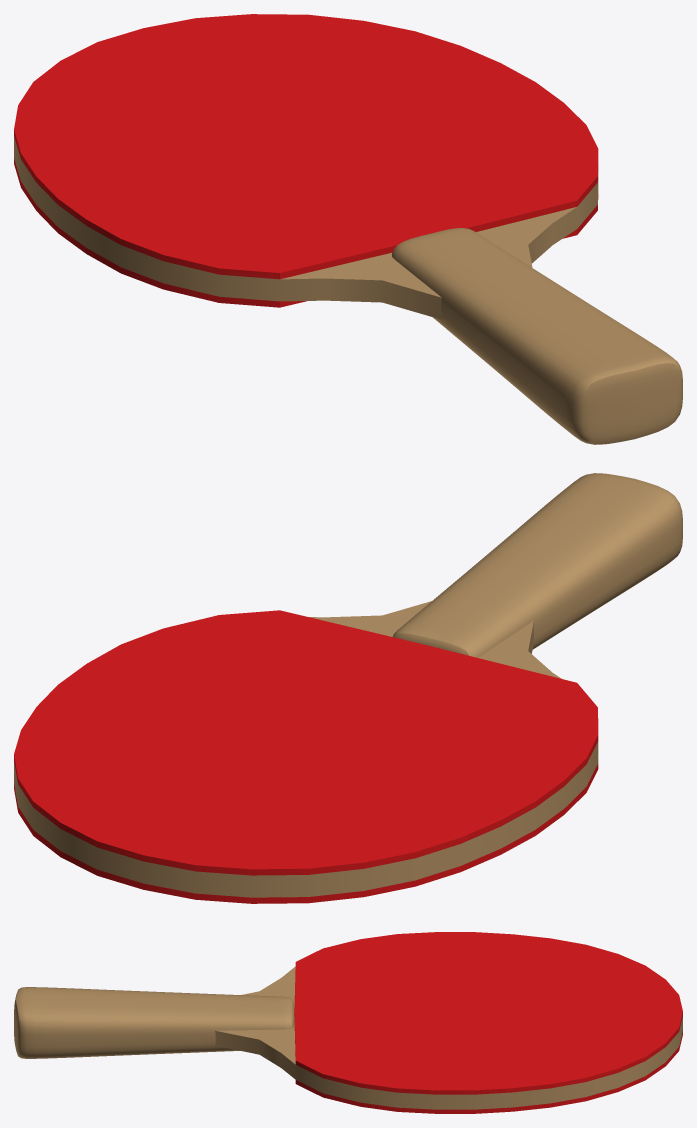
File: paddle.fbx
3 renders of one model, top to bottom at view 1: azimuth 30°, elevation 25°; view 2: azimuth 150°, elevation 25°; view 3: azimuth 270°, elevation 25°, orthographic. The views are drawn at different scales.
Visible parts, largest first — view 1: paddle.001; view 2: paddle.001; view 3: paddle.001.
Boxes of the visible parts, x1,y1,x2,y2 form: paddle.001: (14, 14, 682, 444); paddle.001: (14, 473, 682, 903); paddle.001: (14, 932, 682, 1113).
Bounding box in the file's own units: 27.12 × 3.92 × 48.43.
